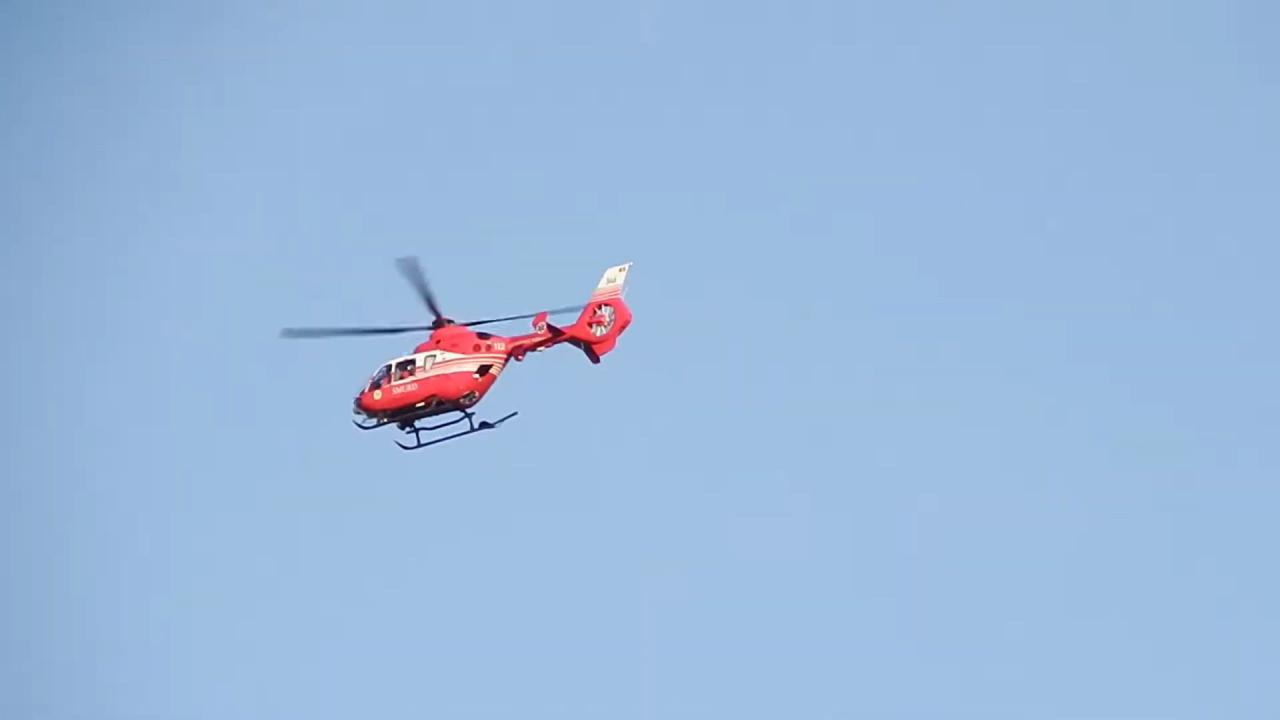Helicopter: (274, 243, 654, 461)
